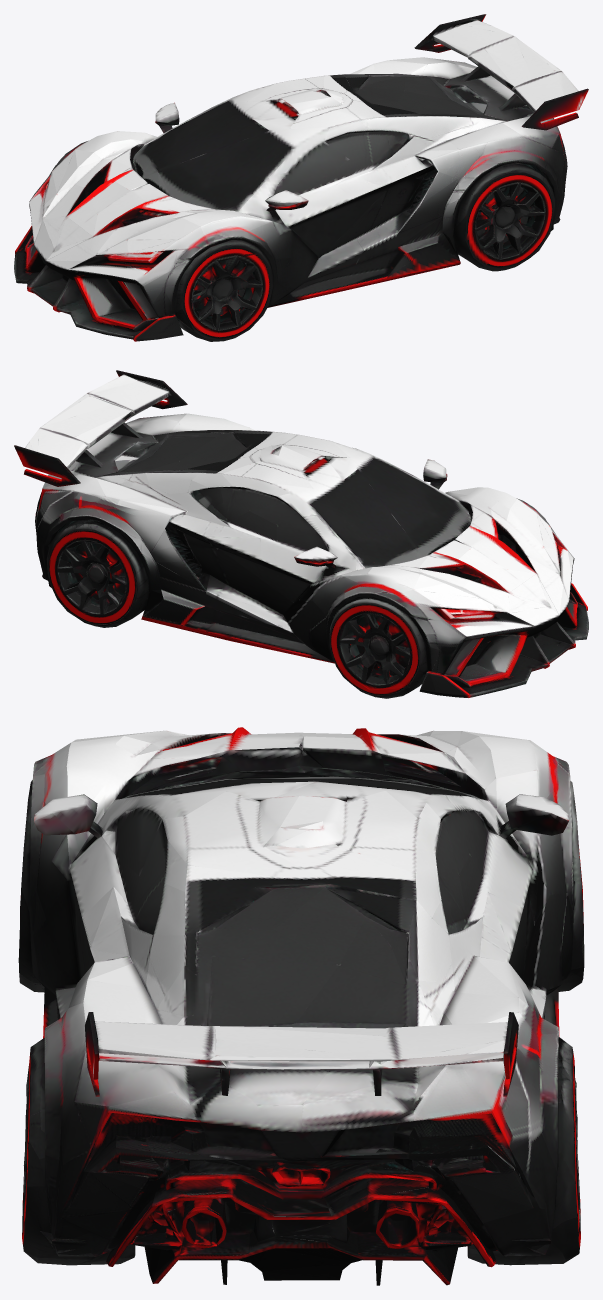
The model's file is midnight_phantom.glb.
The picture shows the model from 3 angles, top to bottom: view 1: azimuth 30°, elevation 25°; view 2: azimuth 150°, elevation 25°; view 3: azimuth 270°, elevation 25°; orthographic projection. The views are drawn at different scales.
Size of the model in its own units: 1.9 by 0.5801 by 0.9292.
Materials: 1 (1 with a texture image).
